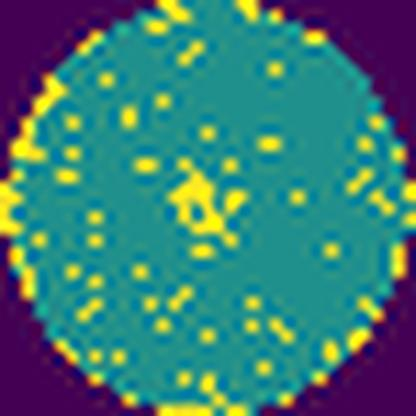Center: (164, 154, 251, 253)
